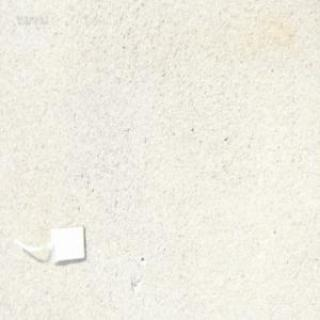LuggageTagtrack_idkeyframe: (10, 222, 87, 267)
